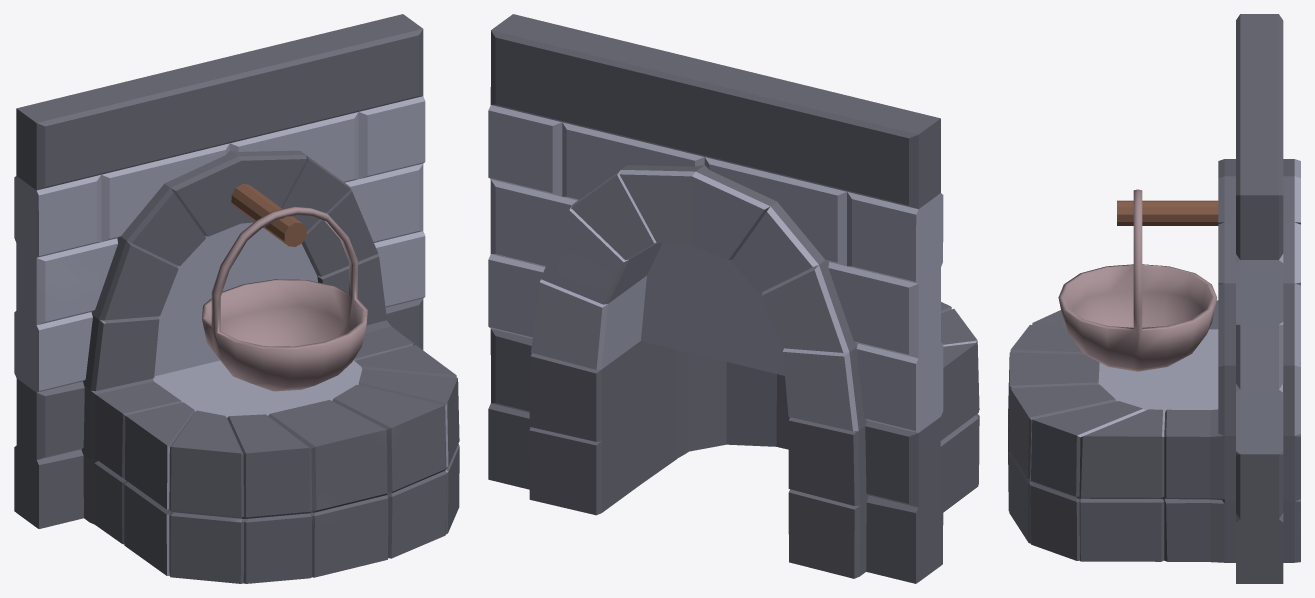
File: fogao.fbx
3 renders of one model, left to right at view 1: azimuth 30°, elevation 25°; view 2: azimuth 150°, elevation 25°; view 3: azimuth 270°, elevation 25°, orthographic. The views are drawn at different scales.
Visible parts, largest first — view 1: parede_com_arco.010; view 2: parede_com_arco.010; view 3: parede_com_arco.010.
Part boxes in pixels (x1=…): parede_com_arco.010: x1=14, y1=14, x2=459, y2=583; parede_com_arco.010: x1=488, y1=14, x2=979, y2=583; parede_com_arco.010: x1=1008, y1=14, x2=1300, y2=583.
Size of the model in its own units: 200 by 200 by 137.
